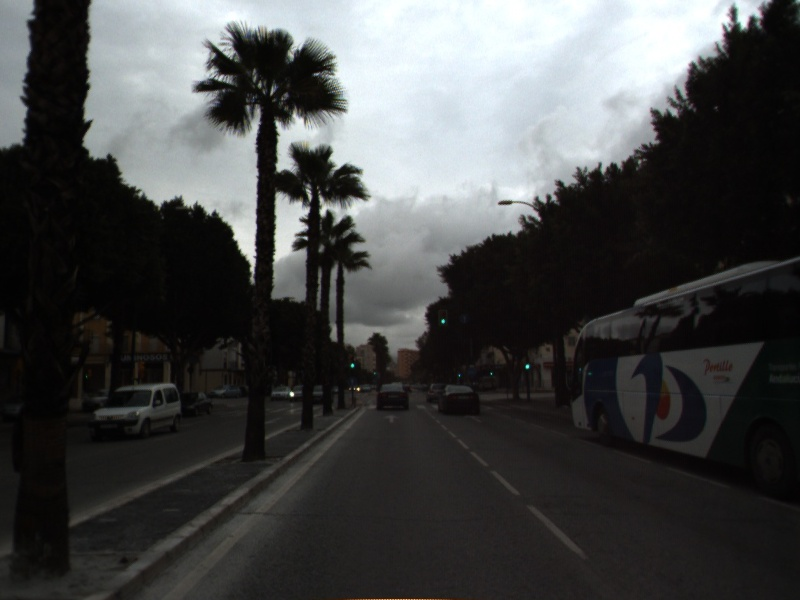STRAIGHT: (381, 412, 402, 425)
